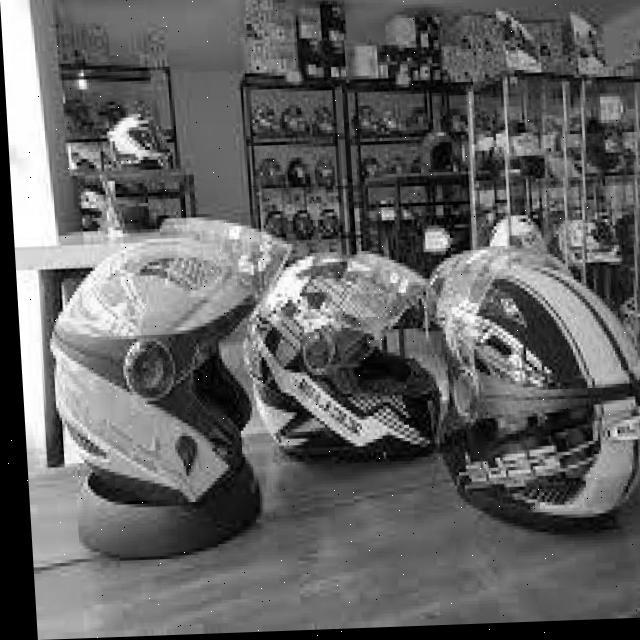Helmet: (35, 202, 640, 578)
